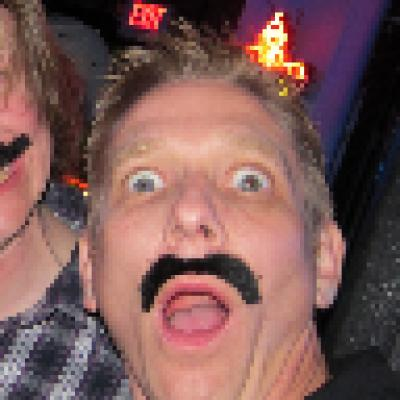surprise: (89, 83, 322, 390)
